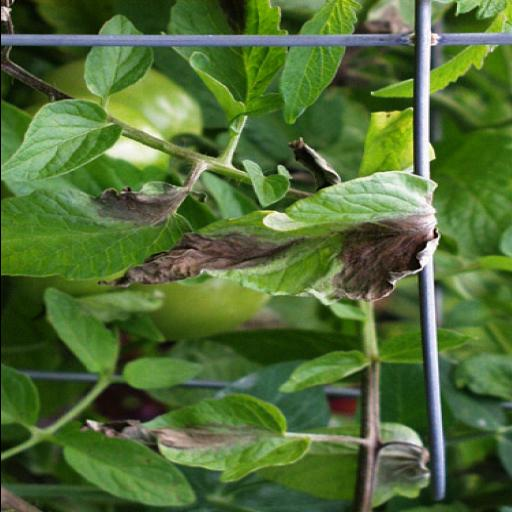disease_tomato: (102, 164, 440, 304), (0, 165, 202, 302), (76, 394, 310, 486)
